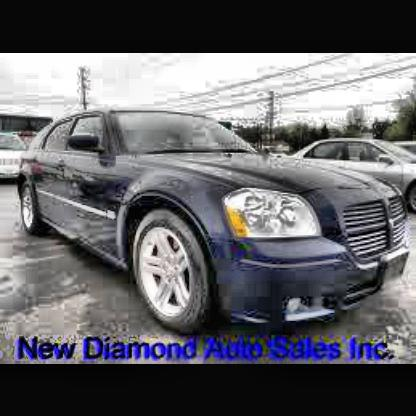Dodge Magnum Wagon 2008: (20, 113, 410, 336)
